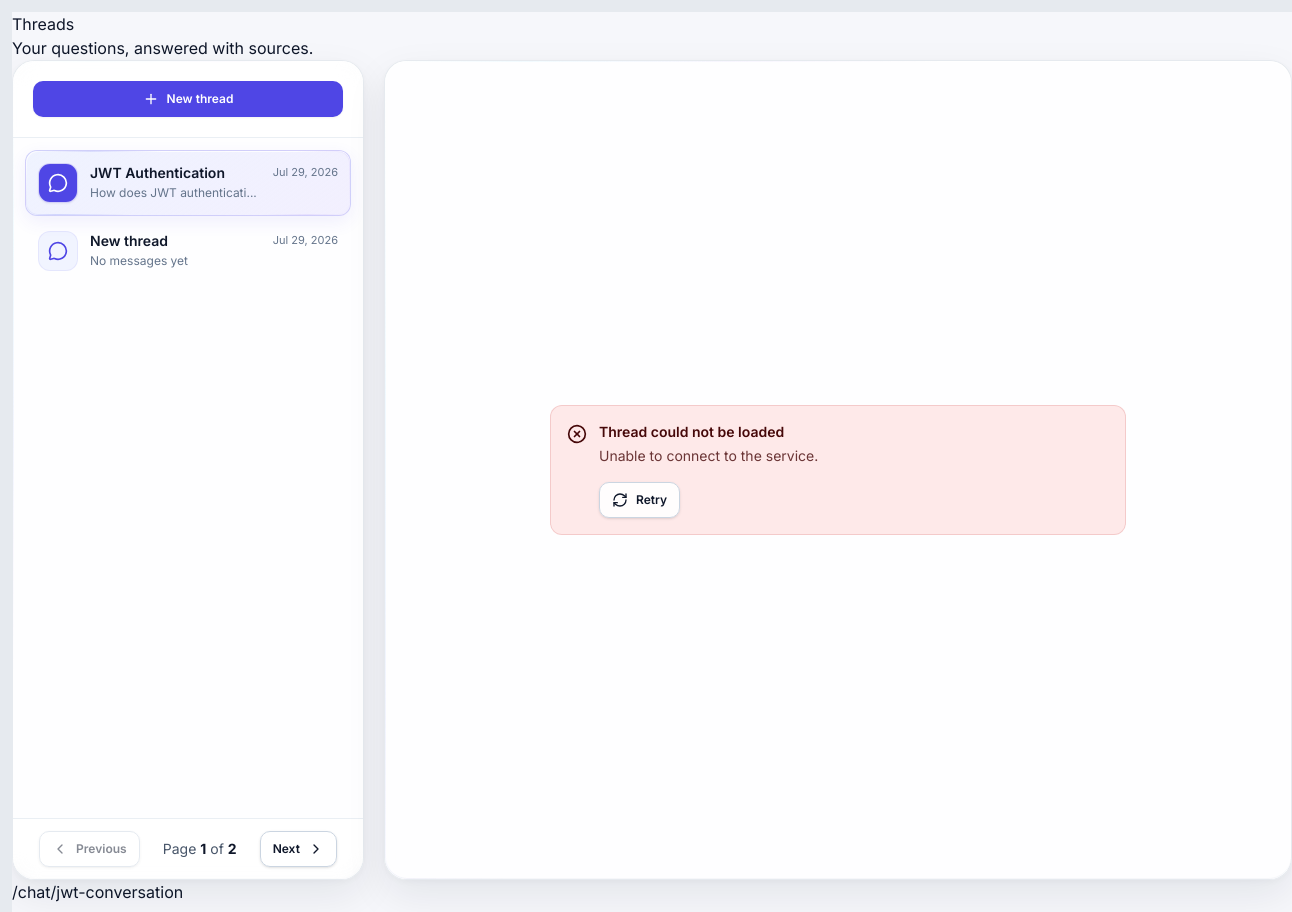
Threads page › keeps network failure distinct from not-found and retries explicitly
This screenshot has width=1292, height=912.
Expected: the message shows "Thread could not be loaded", [599,423,784,440]
Click the button "Retry" at (640, 500), box [599,482,680,518]
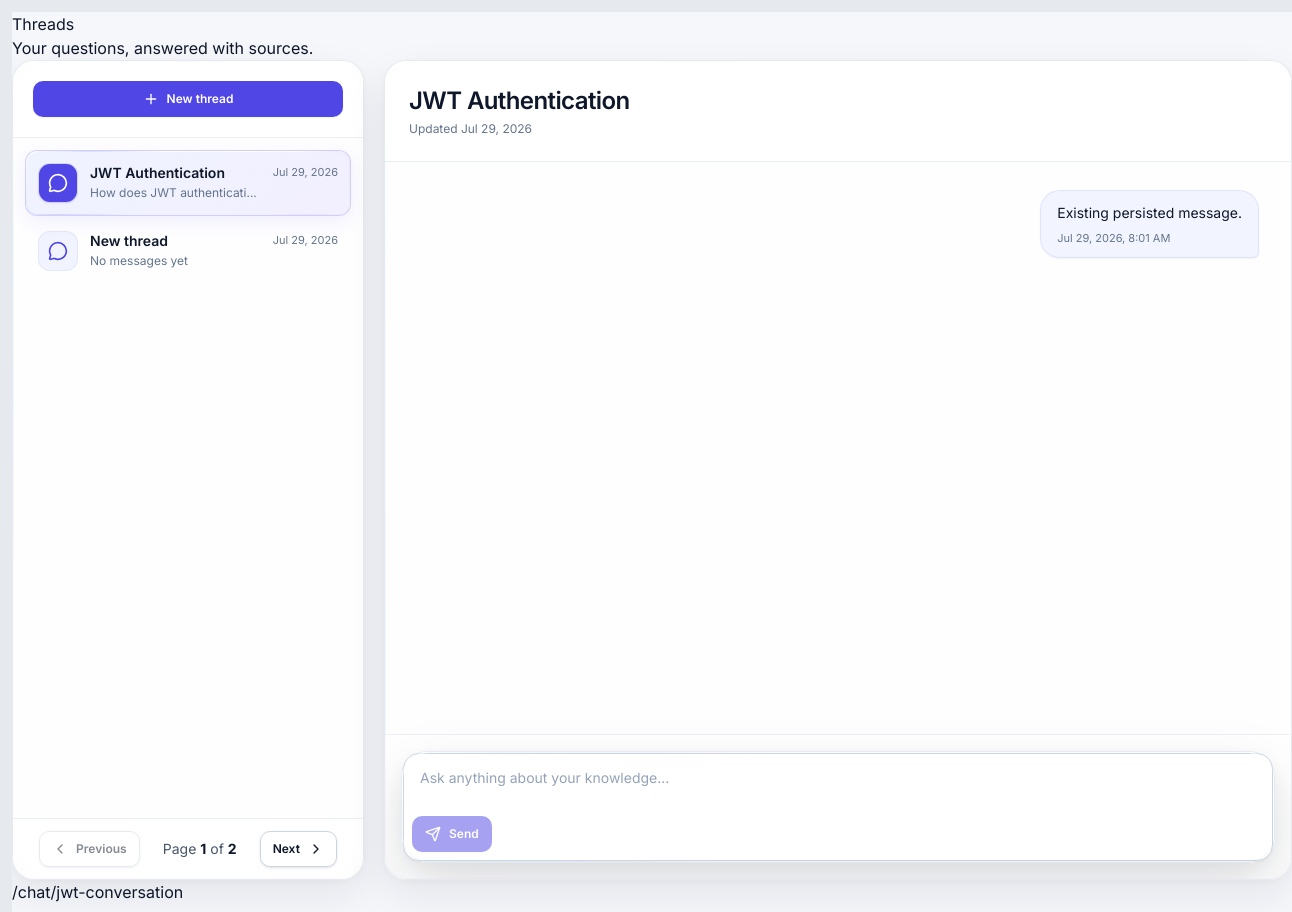
Result: the heading "JWT Authentication" is shown at [409,86,630,115]
